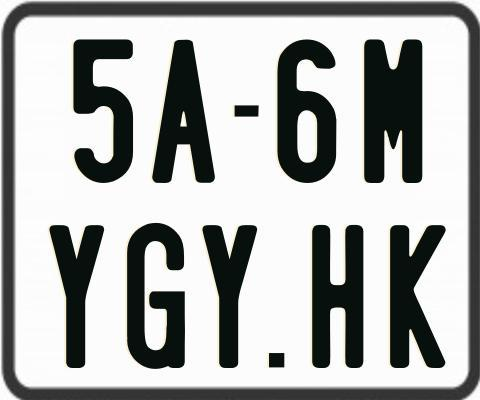5: (71, 39, 134, 188)
6: (274, 37, 336, 180)
A: (152, 39, 218, 186)
G: (124, 222, 184, 368)
H: (310, 224, 365, 369)
K: (388, 225, 448, 373)
M: (364, 39, 426, 189)
Y: (200, 224, 258, 371), (48, 224, 105, 370)
